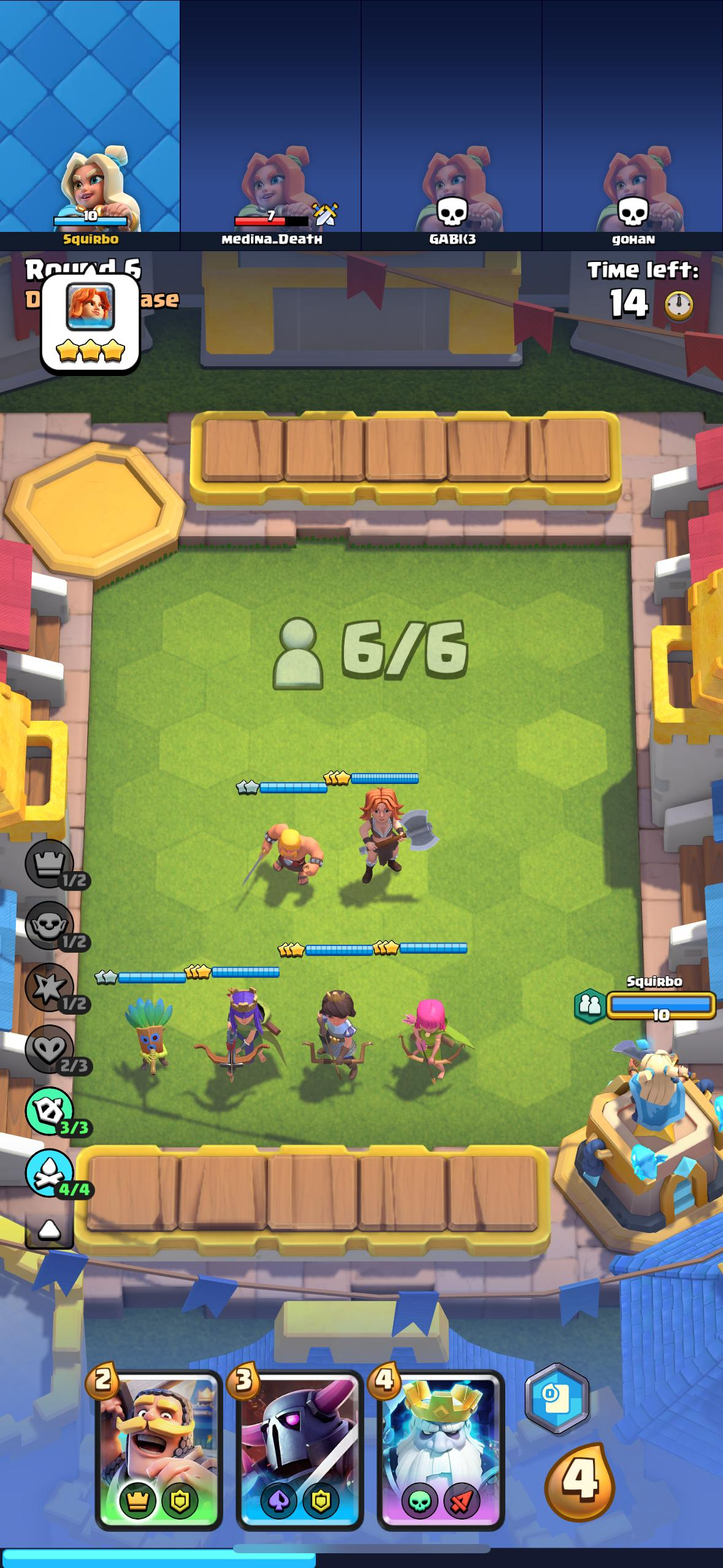archer: (396, 993, 474, 1082)
barbarian: (254, 818, 325, 887)
dart: (121, 992, 172, 1075)
hand-ghost: (375, 1375, 500, 1523)
hand-knight: (101, 1373, 219, 1523)
hand-pekka: (235, 1369, 363, 1527)
princess: (308, 981, 371, 1084)
queen: (209, 985, 286, 1083)
valkyrie: (349, 785, 427, 881)
